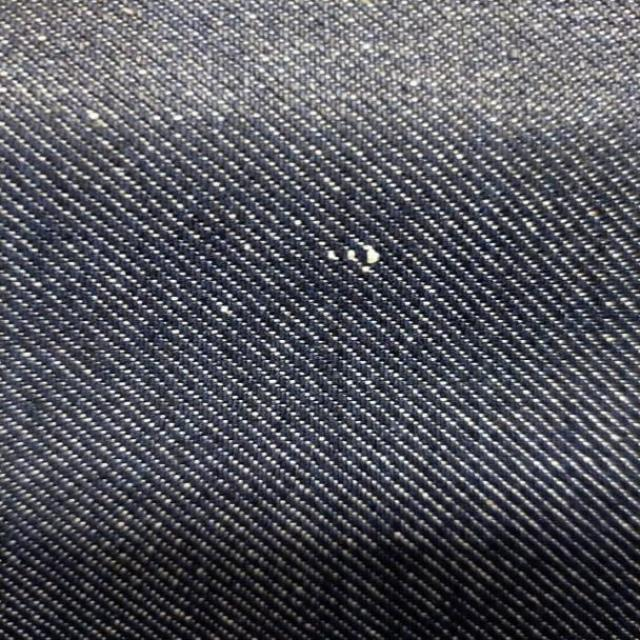Knot: (326, 245, 381, 273)
